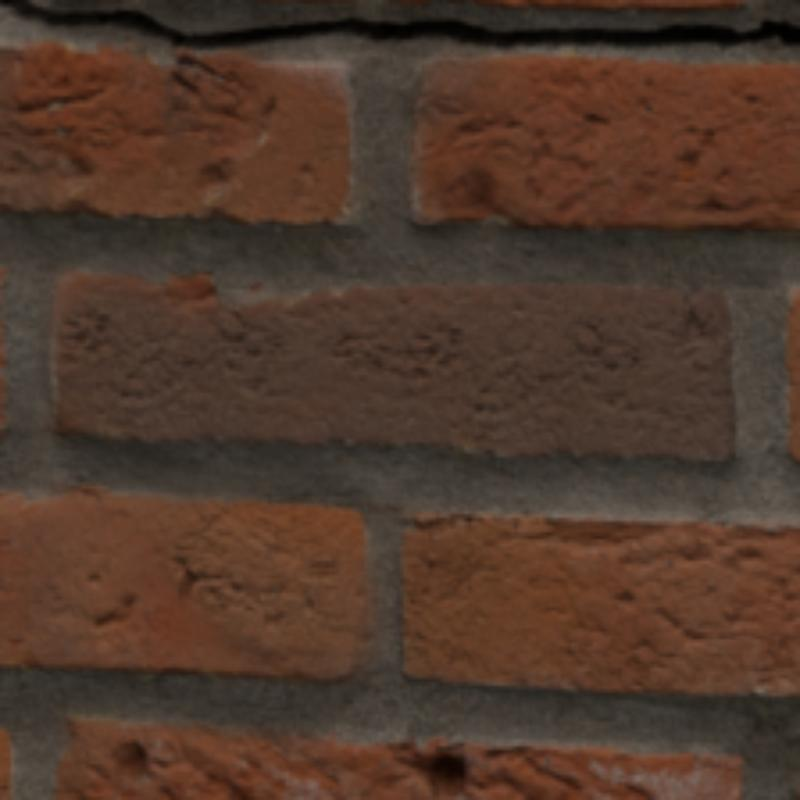pothole: (0, 0, 796, 46)
